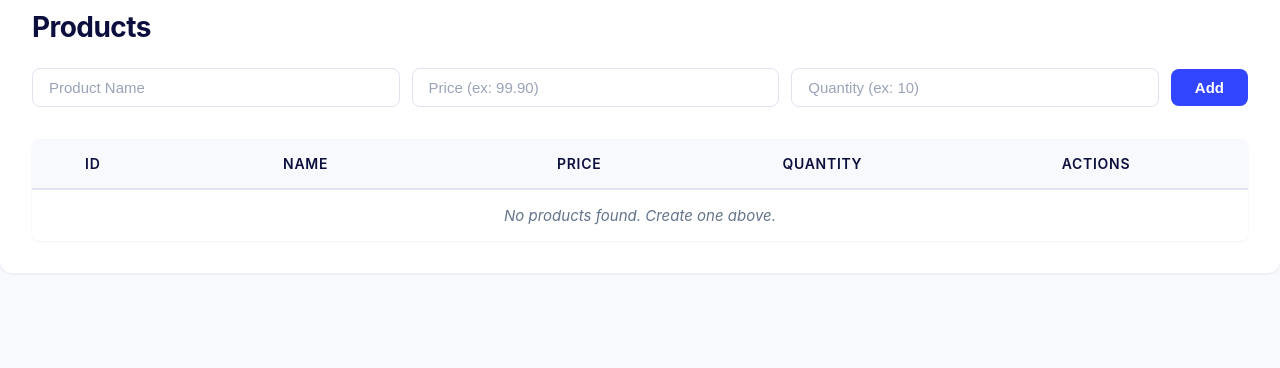
Test: Products Component - Suite Completa › Integração e Casos de Borda › valida que quantidade deve ser positiva
The width and height of the screenshot is (1280, 368).
Type "Product" into the field with placeholder "Product Name" at (216, 88), box [32,68,400,107]
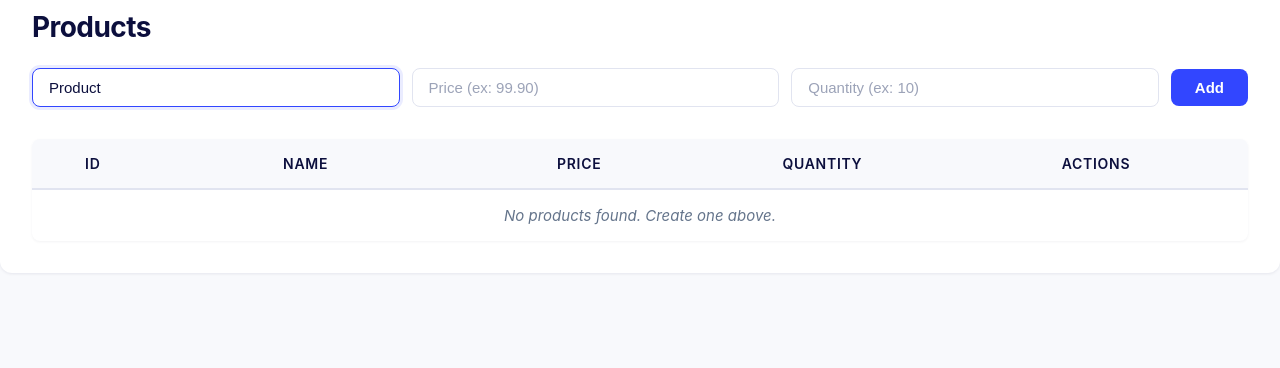
Type "50" into the number field with placeholder "Price (ex: 99.90)" at (595, 88), box [412,68,779,107]
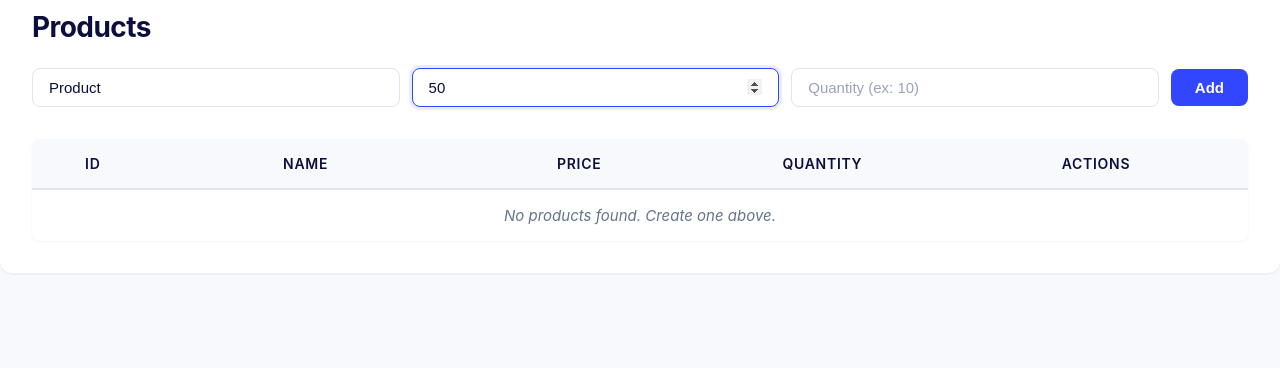
Type "-5" into the number field with placeholder "Quantity (ex: 10)" at (975, 88), box [791,68,1159,107]
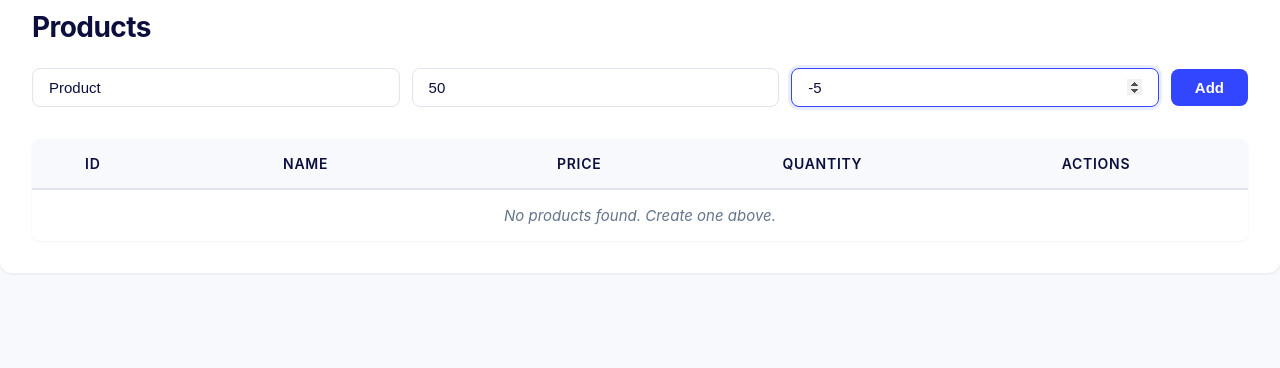
Click the button "Add" at (1209, 88), box [1171,69,1248,106]
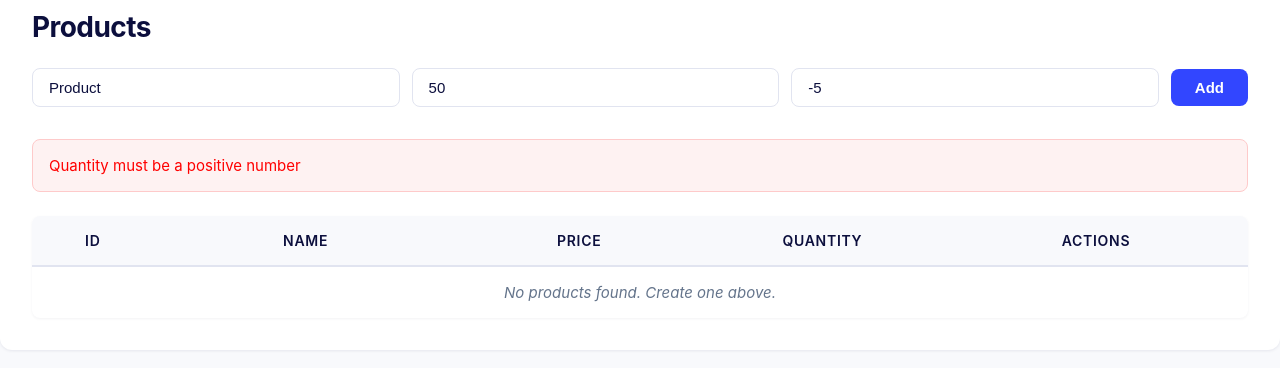
Check: the text "Quantity must be a positive number" is shown, box [32,139,1248,192]
